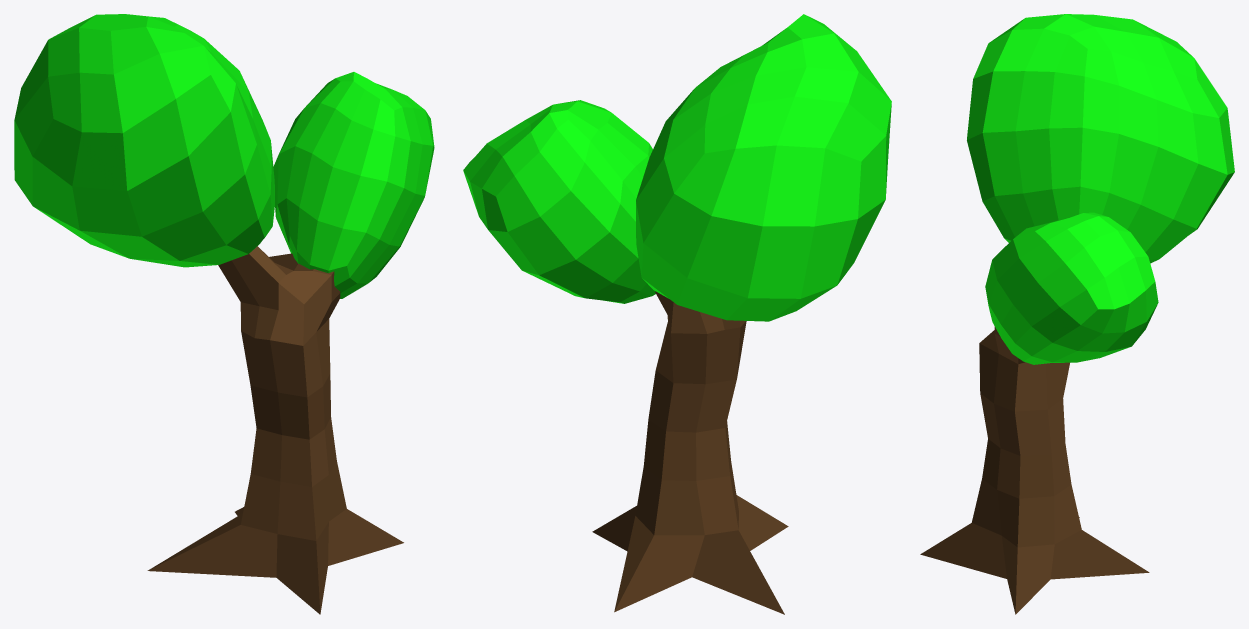
The model's file is Park2_T2.glb.
3 renders of one model, left to right at view 1: azimuth 30°, elevation 25°; view 2: azimuth 150°, elevation 25°; view 3: azimuth 270°, elevation 25°, orthographic. The views are drawn at different scales.
Visible parts, largest first — view 1: Park2-T2; view 2: Park2-T2; view 3: Park2-T2.
Part boxes in pixels (box(x1,y1,x2,y2)): Park2-T2: box(14, 14, 434, 614); Park2-T2: box(463, 14, 891, 614); Park2-T2: box(920, 14, 1234, 614).
Bounding box in the file's own units: 18.95 × 25.86 × 14.79.
